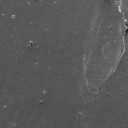corrosion: (27, 40, 35, 48), (10, 14, 16, 19), (42, 90, 46, 94)
